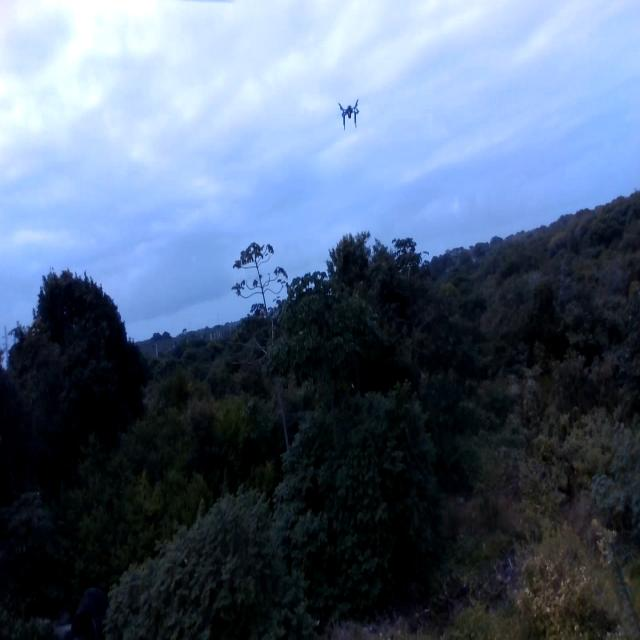-uav-: (331, 89, 368, 146)
